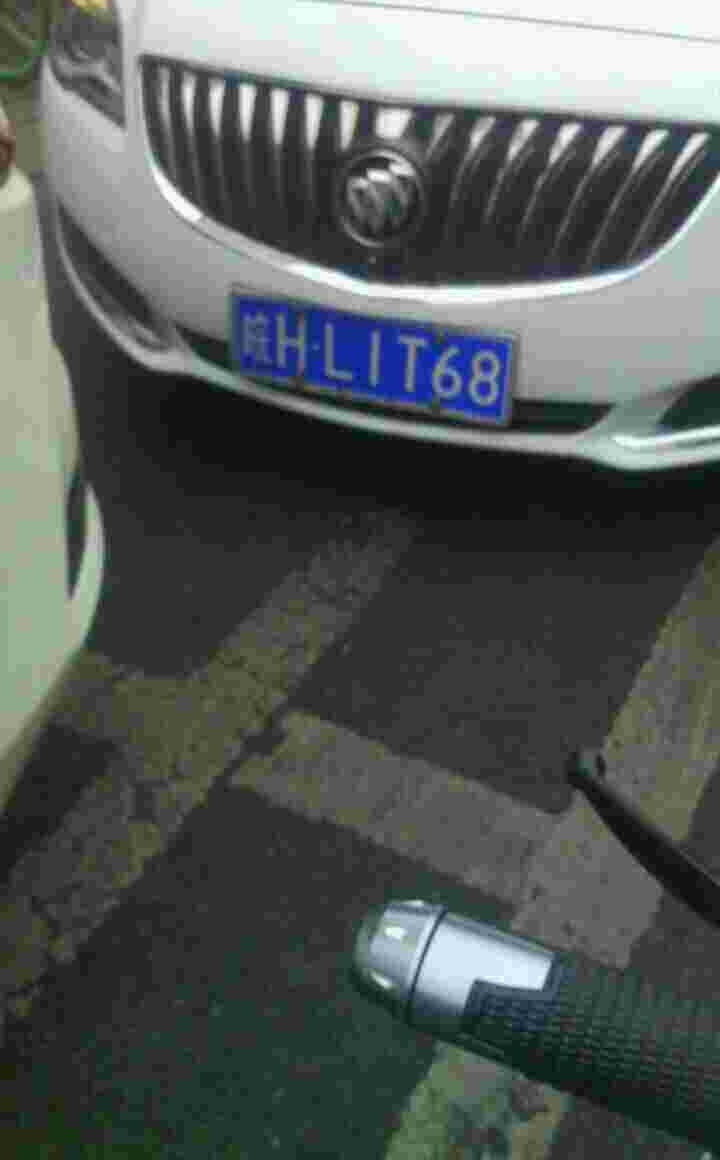license_plate: (229, 283, 517, 427)
